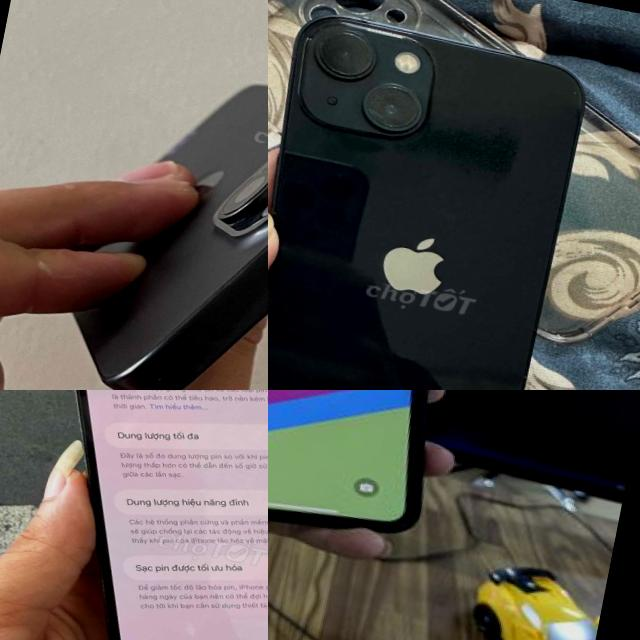gen_11: (268, 390, 425, 531)
gen_12_13: (268, 0, 595, 390)
gen_14: (0, 390, 268, 640)
gen_15: (53, 42, 268, 390)
